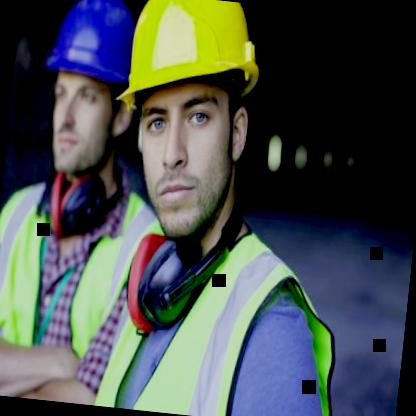helmet: (94, 0, 259, 244), (28, 0, 143, 196)
